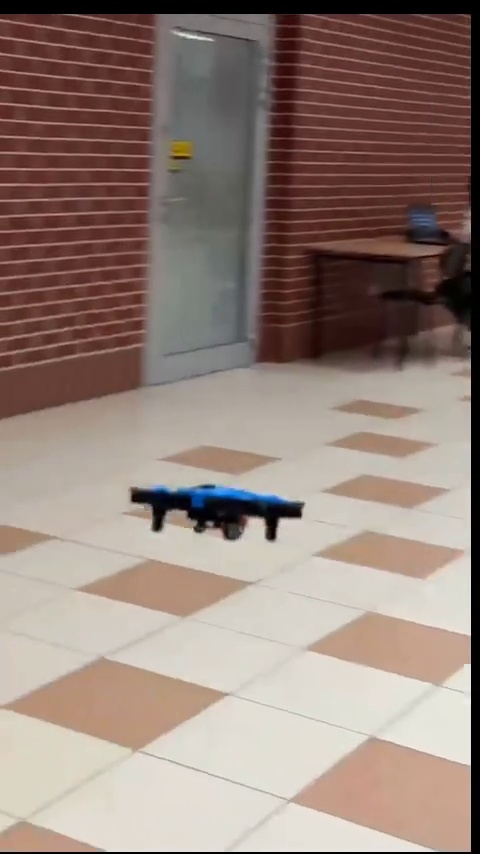drone: (129, 476, 302, 544)
